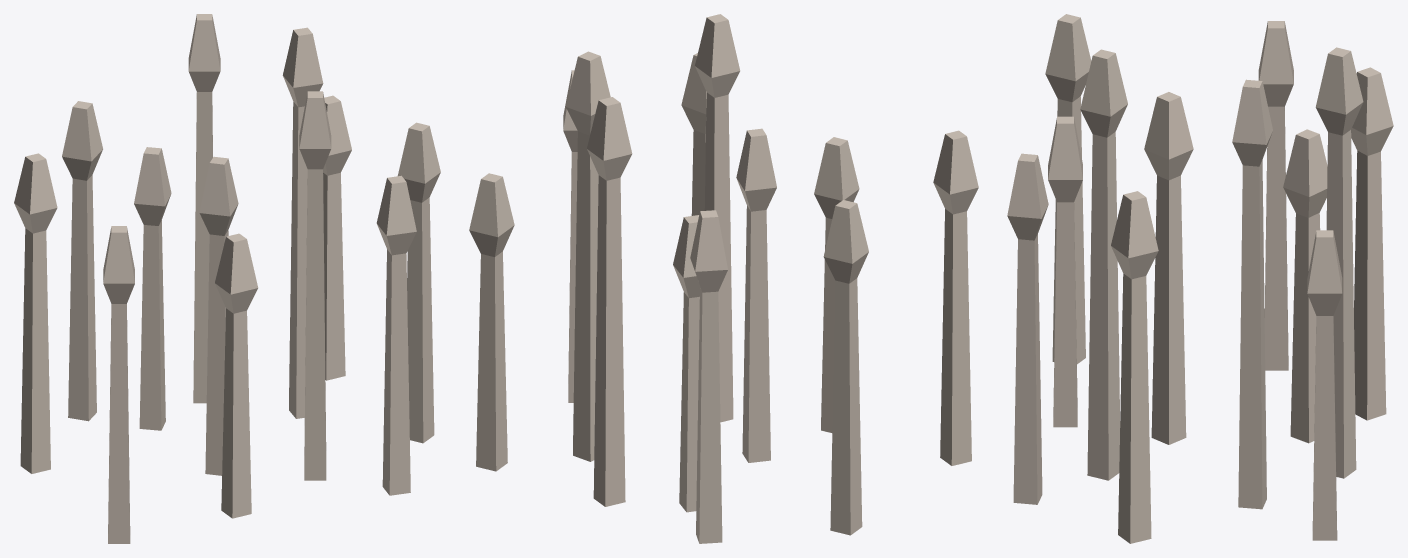
The model's file is wheat.glb.
The picture shows the model from 3 angles, left to right: view 1: azimuth 30°, elevation 25°; view 2: azimuth 150°, elevation 25°; view 3: azimuth 270°, elevation 25°; orthographic projection. The views are drawn at different scales.
Visible parts, largest first — view 1: crops_wheatStageB; view 2: crops_wheatStageB; view 3: crops_wheatStageB.
Part boxes in pixels (x1,y1,x2,y2): crops_wheatStageB: [14, 14, 440, 543]; crops_wheatStageB: [469, 14, 978, 543]; crops_wheatStageB: [1007, 14, 1393, 543].
Size of the model in its own units: 1.01 by 1 by 0.8351.
